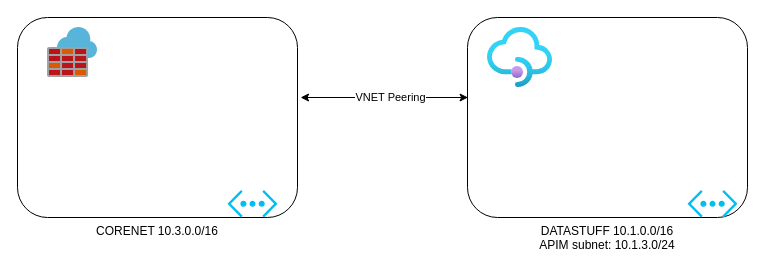
Some shapes in this 765 by 271 pixel diagram are drawn without their labels. The shapes that lost their labels are listed below. From the top down, each one's centre as x and y in pixels, then its label:
At (72,52): "FW - 10.3.2.4".
At (519,57): "APIM - 10.1.3.5".
